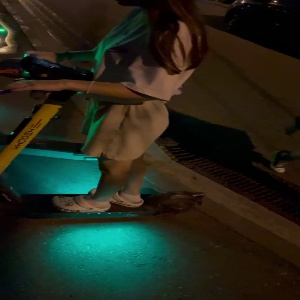human on a scooter: (1, 1, 209, 225)
